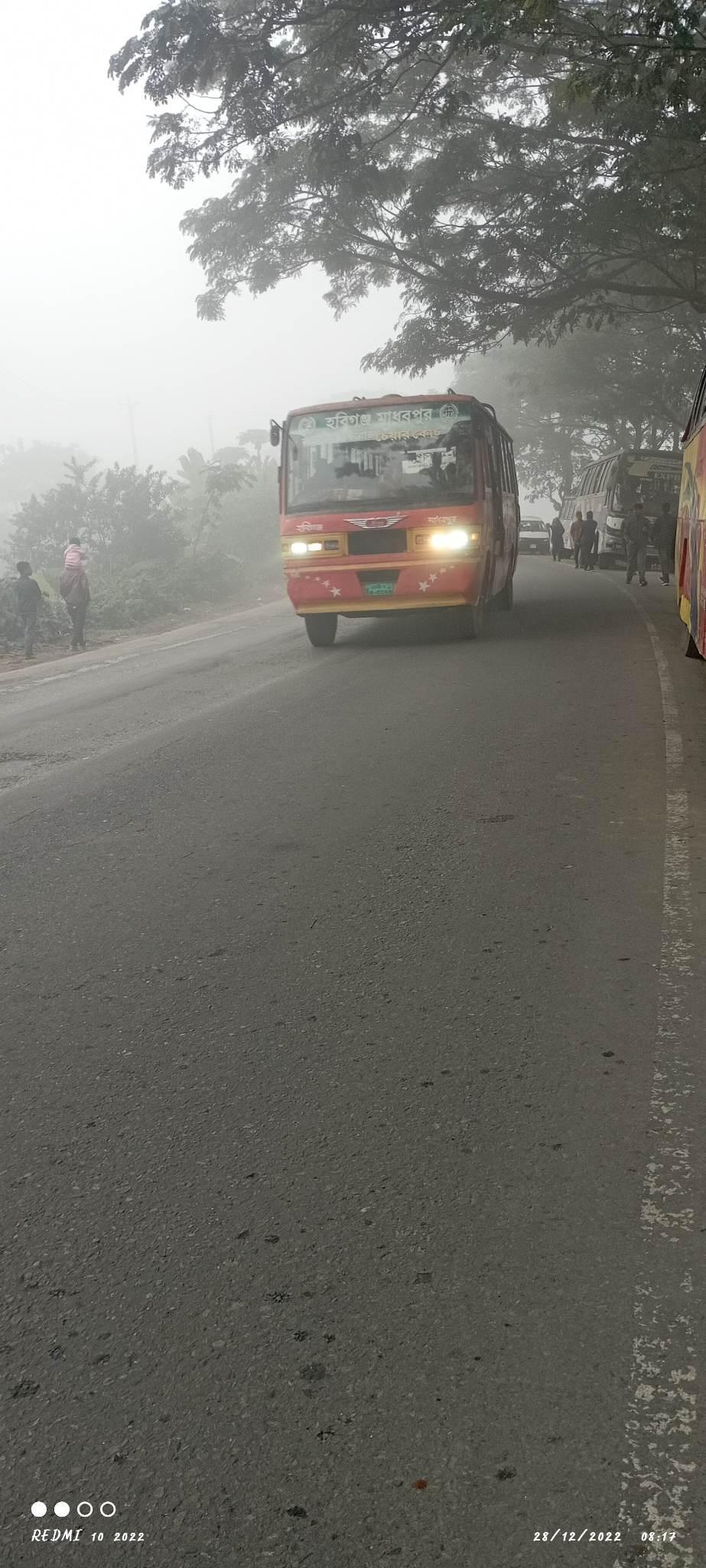Bus: (247, 367, 558, 660), (563, 420, 691, 583)
Car: (516, 505, 558, 569)
